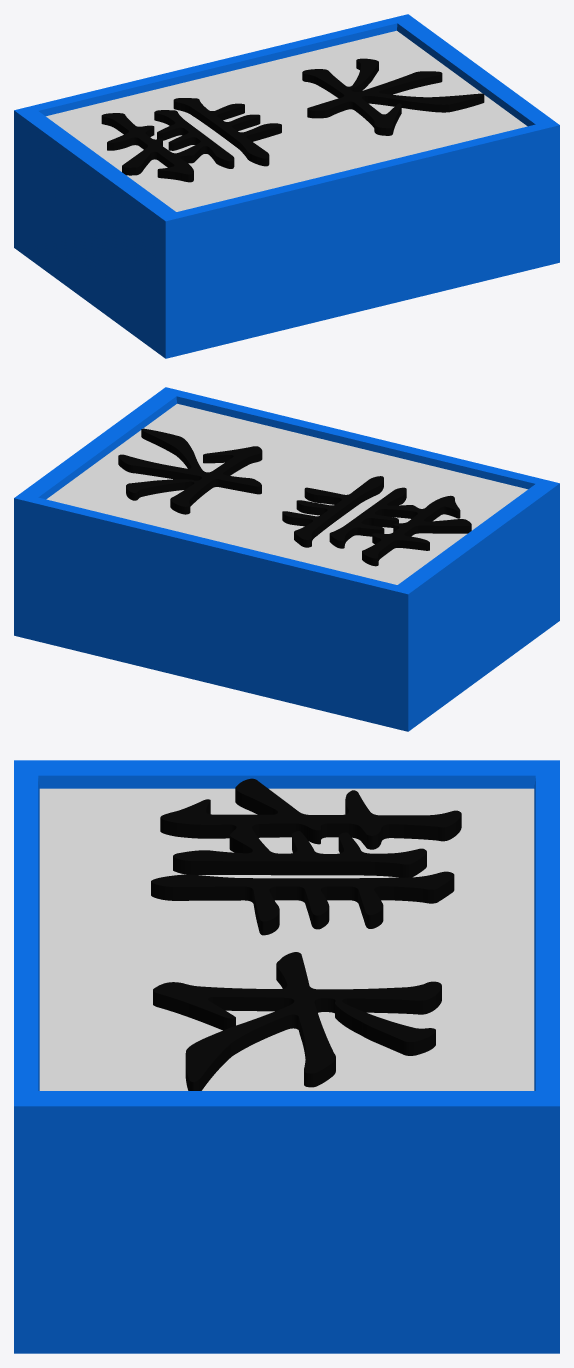
File: 8_pai_zhang.fbx
3 renders of one model, top to bottom at view 1: azimuth 30°, elevation 25°; view 2: azimuth 150°, elevation 25°; view 3: azimuth 270°, elevation 25°, orthographic. The views are drawn at different scales.
Parts seen in each view (by area): view 1: Cube, 文本; view 2: Cube, 文本; view 3: Cube, 文本.
Part boxes in pixels (x1=…): Cube: x1=14, y1=14, x2=559, y2=358; 文本: x1=101, y1=58, x2=484, y2=182; Cube: x1=14, y1=387, x2=559, y2=731; 文本: x1=118, y1=428, x2=471, y2=566; Cube: x1=14, y1=760, x2=559, y2=1353; 文本: x1=151, y1=778, x2=461, y2=1090.
Size of the model in its own units: 240 by 80.47 by 160.
